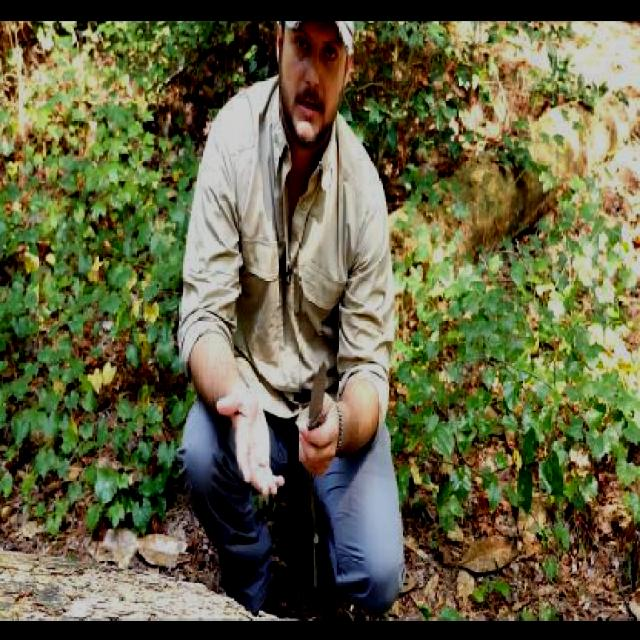knife: (297, 349, 338, 480)
